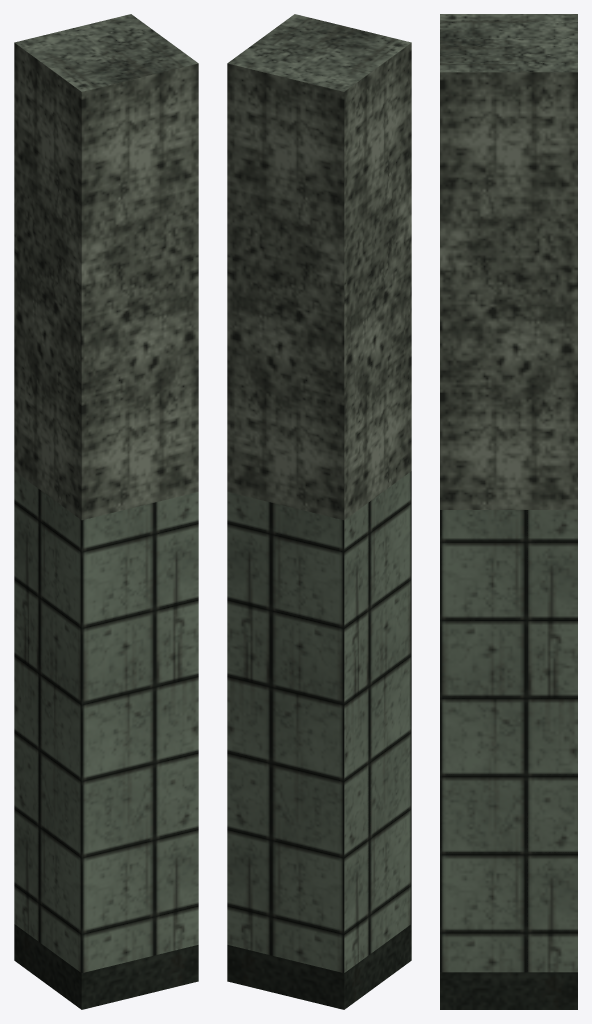
Rendered from SM_Pillar.fbx.
3 renders of one model, left to right at view 1: azimuth 30°, elevation 25°; view 2: azimuth 150°, elevation 25°; view 3: azimuth 270°, elevation 25°, orthographic. The views are drawn at different scales.
Visible parts, largest first — view 1: SM_Pillar; view 2: SM_Pillar; view 3: SM_Pillar.
Part boxes in pixels (x1,y1,x2,y2): SM_Pillar: (14,14,198,1009); SM_Pillar: (227,14,411,1009); SM_Pillar: (440,14,577,1009).
Size of the model in its own units: 0.4 by 3 by 0.4.
